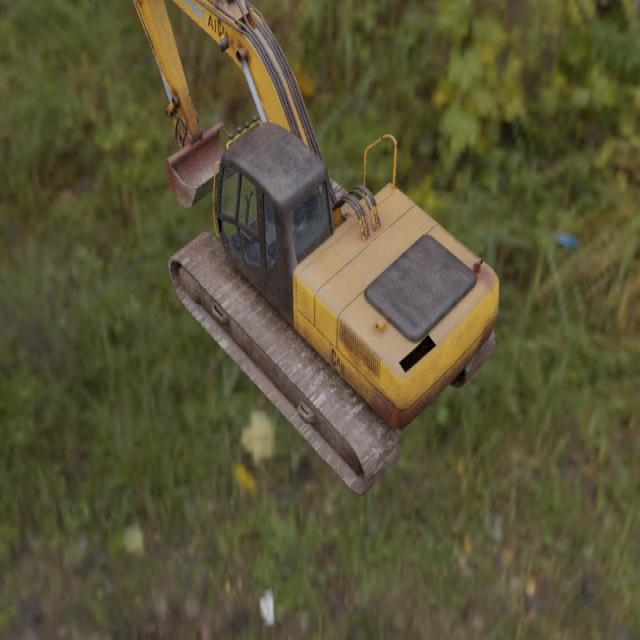excavator: (133, 0, 499, 497)
